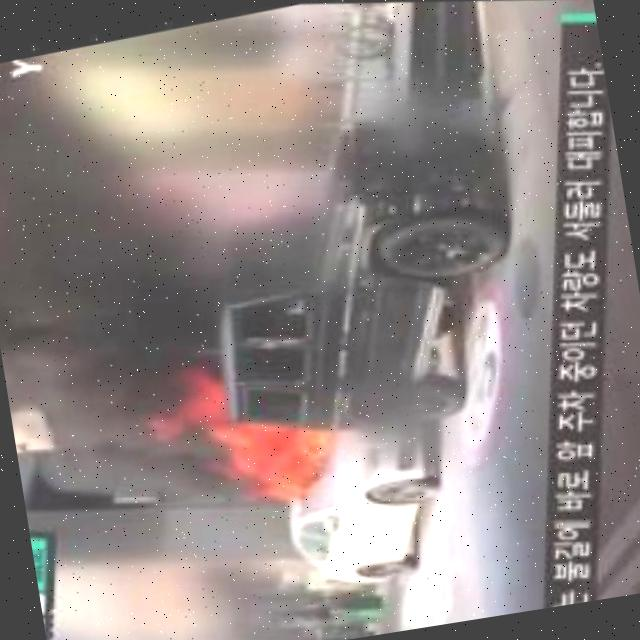fire: (223, 420, 342, 514), (147, 354, 241, 459)
